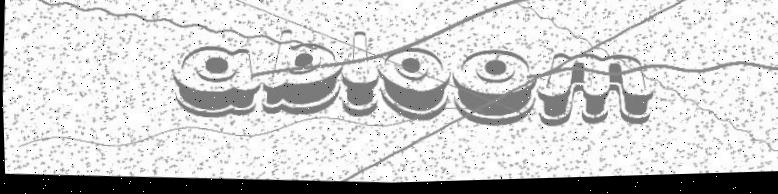a: (168, 42, 262, 122)
b: (259, 28, 344, 123)
l: (336, 27, 382, 122)
m: (534, 43, 656, 133)
o: (448, 44, 538, 133), (375, 45, 454, 123)
